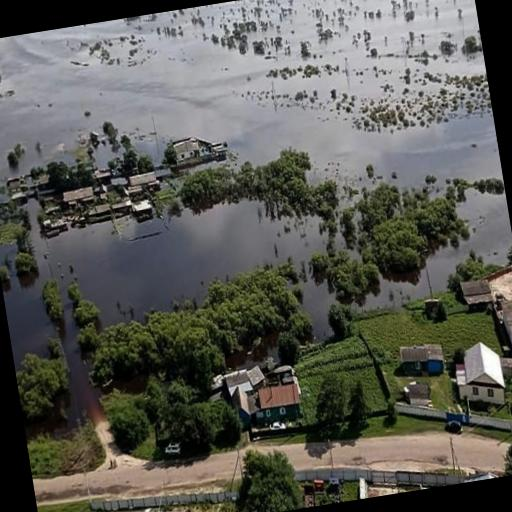flood: (2, 199, 335, 368), (363, 269, 429, 309), (0, 248, 11, 264)
house: (452, 337, 508, 410), (490, 292, 512, 420), (394, 338, 449, 384), (255, 380, 305, 426), (96, 498, 207, 512), (124, 168, 158, 198), (171, 135, 201, 165), (459, 468, 510, 482)
